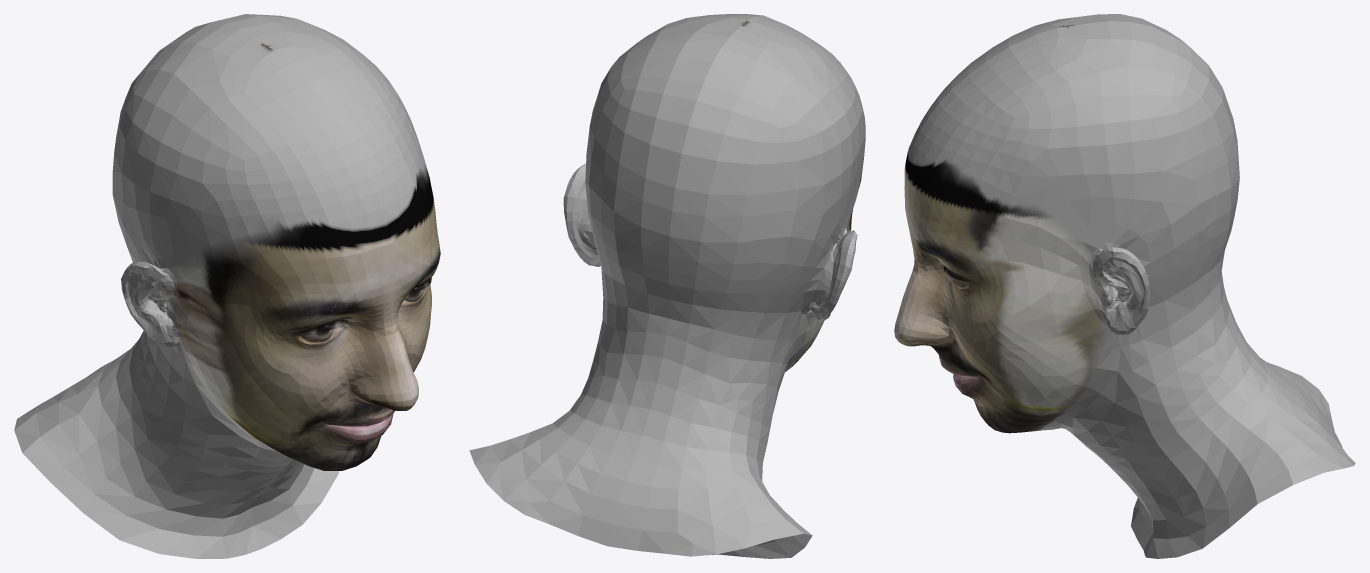
Rendered from ezgif-frame-066.obj.
3 renders of one model, left to right at view 1: azimuth 30°, elevation 25°; view 2: azimuth 150°, elevation 25°; view 3: azimuth 270°, elevation 25°, orthographic. The views are drawn at different scales.
Bounding box in the file's own units: 0.2074 × 0.3275 × 0.2684.
Materials: 1 (1 with a texture image).
